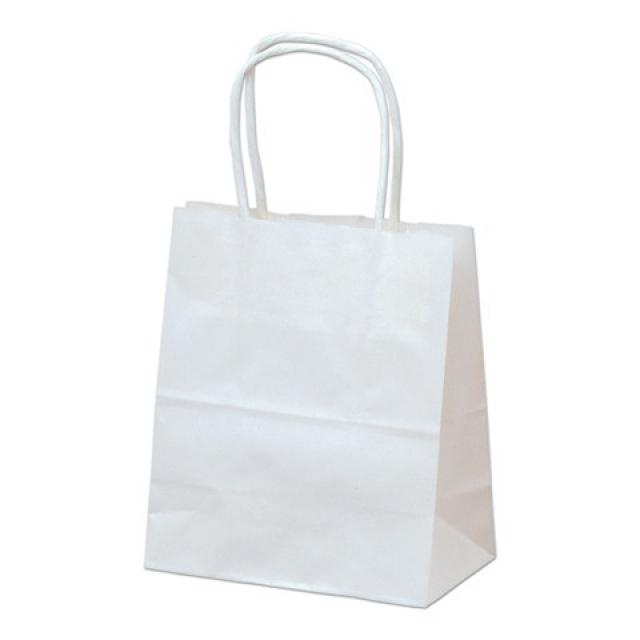paper bag: (136, 27, 501, 613)
